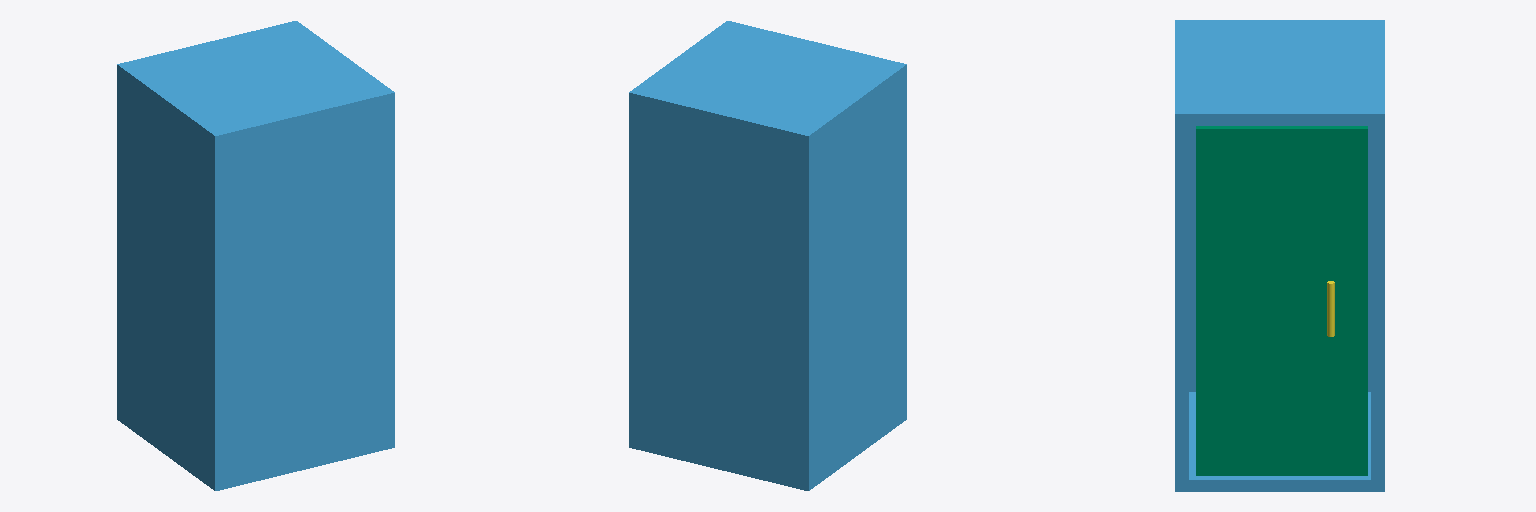
URDF robot description (my_cabinet):
<?xml version="1.0" ?>
<robot name="my_cabinet">
	<link name="world"/>
	<joint name="virtual_joint" type="fixed">
		<parent link="world"/>
		<child link="base_cabinet_link"/>
		<origin xyz="0.0 0.0 0.0" rpy="0.0 0.0 0.0"/>
	</joint>
	<link name="base_cabinet_link">
		<visual>
			<origin xyz="0.0 -0.0025 -0.2744889267539907" rpy="0.0 0.0 0.0"/>
			<geometry>
				<box size="0.3 0.2845808412956103 0.018"/>
			</geometry>
		</visual>
		<collision name="base_cabinet_link_collision_0">
			<origin xyz="0.0 -0.0025 -0.2744889267539907" rpy="0.0 0.0 0.0"/>
			<geometry>
				<box size="0.3 0.2845808412956103 0.018"/>
			</geometry>
		</collision>
		<visual>
			<origin xyz="0.0 0.13079042064780516 0.0" rpy="0.0 0.0 0.0"/>
			<geometry>
				<box size="0.3 0.018 0.5669778535079815"/>
			</geometry>
		</visual>
		<collision name="base_cabinet_link_collision_1">
			<origin xyz="0.0 0.13079042064780516 0.0" rpy="0.0 0.0 0.0"/>
			<geometry>
				<box size="0.3 0.018 0.5669778535079815"/>
			</geometry>
		</collision>
		<visual>
			<origin xyz="0.0 -0.13579042064780517 0.0" rpy="0.0 0.0 0.0"/>
			<geometry>
				<box size="0.3 0.018 0.5669778535079815"/>
			</geometry>
		</visual>
		<collision name="base_cabinet_link_collision_2">
			<origin xyz="0.0 -0.13579042064780517 0.0" rpy="0.0 0.0 0.0"/>
			<geometry>
				<box size="0.3 0.018 0.5669778535079815"/>
			</geometry>
		</collision>
		<visual>
			<origin xyz="0.0 -0.0025 0.2744889267539907" rpy="0.0 0.0 0.0"/>
			<geometry>
				<box size="0.3 0.2845808412956103 0.018"/>
			</geometry>
		</visual>
		<collision name="base_cabinet_link_collision_3">
			<origin xyz="0.0 -0.0025 0.2744889267539907" rpy="0.0 0.0 0.0"/>
			<geometry>
				<box size="0.3 0.2845808412956103 0.018"/>
			</geometry>
		</collision>
		<visual>
			<origin xyz="-0.141 -0.0025 0.0" rpy="0.0 0.0 0.0"/>
			<geometry>
				<box size="0.018 0.2845808412956103 0.5669778535079815"/>
			</geometry>
		</visual>
		<collision name="base_cabinet_link_collision_4">
			<origin xyz="-0.141 -0.0025 0.0" rpy="0.0 0.0 0.0"/>
			<geometry>
				<box size="0.018 0.2845808412956103 0.5669778535079815"/>
			</geometry>
		</collision>
		<inertial>
			<mass value="0.200000"/>
			<inertia ixx="0.006708" ixy="0.0" ixz="0.0" iyy="0.006858" iyz="0.0" izz="0.002850"/>
		</inertial>
	</link>
	<link name="door_link">
		<visual>
			<origin xyz="0.0 -0.11679042064780515 0.0"/>
			<geometry>
				<box size="0.018 0.2335808412956103 0.5209778535079814"/>
			</geometry>
		</visual>
		<collision name="door_link_collision">
			<origin xyz="0.0 -0.11679042064780515 0.0"/>
			<geometry>
				<box size="0.018 0.2335808412956103 0.5209778535079814"/>
			</geometry>
		</collision>
		<inertial>
			<mass value="0.200000"/>
			<inertia ixx="0.005433" ixy="0.0" ixz="0.0" iyy="0.004529" iyz="0.0" izz="0.000915"/>
		</inertial>
	</link>
	<joint name="door_joint" type="revolute">
		<origin xyz="0.141 -0.11679042064780515 0.0" rpy="0.000000 -0.000000 3.141593"/>
		<axis xyz="0 0 1"/>
		<parent link="base_cabinet_link"/>
		<child link="door_link"/>
		<limit effort="50" lower="-1.658062789394613" upper="0" velocity="10"/>
		<dynamics friction="3.5" damping="3.5"/>
	</joint>
	<link name="handle_link">
		<visual>
			<origin xyz="0.0 0.0 0.0" rpy="0.0 0.0 0.0"/>
			<geometry>
				<cylinder length="0.08" radius="0.005"/>
			</geometry>
		</visual>
		<collision name="handle_link_collision_0">
			<origin xyz="0.0 0.0 0.0" rpy="0.0 0.0 0.0"/>
			<geometry>
				<cylinder length="0.08" radius="0.005"/>
			</geometry>
		</collision>
		<visual>
			<origin xyz="-0.01 0.0 0.02" rpy="0.0 1.5707963267948966 0.0"/>
			<geometry>
				<cylinder length="0.02" radius="0.003"/>
			</geometry>
		</visual>
		<collision name="handle_link_collision_1">
			<origin xyz="-0.01 0.0 0.02" rpy="0.0 1.5707963267948966 0.0"/>
			<geometry>
				<cylinder length="0.01" radius="0.003"/>
			</geometry>
		</collision>
		<visual>
			<origin xyz="-0.01 0.0 -0.02" rpy="0.0 1.5707963267948966 0.0"/>
			<geometry>
				<cylinder length="0.02" radius="0.003"/>
			</geometry>
		</visual>
		<collision name="handle_link_collision_2">
			<origin xyz="-0.01 0.0 -0.02" rpy="0.0 1.5707963267948966 0.0"/>
			<geometry>
				<cylinder length="0.02" radius="0.003"/>
			</geometry>
		</collision>
		<inertial>
			<mass value="0.050000"/>
			<inertia ixx="0.000027" ixy="0.0" ixz="0.0" iyy="0.000029" iyz="0.0" izz="0.000003"/>
		</inertial>
	</link>
	<joint name="handle_joint" type="fixed">
		<origin xyz="-0.028999999999999998 -0.1835808412956103 0.0" rpy="0.000000 -0.000000 3.141593"/>
		<parent link="door_link"/>
		<child link="handle_link"/>
	</joint>
	<gazebo reference="base_cabinet_link">
		<sensor name="main_sensor" type="contact">
			<selfCollide>true</selfCollide>
			<alwaysOn>true</alwaysOn>
			<updateRate>5.0</updateRate>
			<material>Gazebo/Red</material>
			<contact>
				<collision>base_cabinet_link_collision_0_collision</collision>
				<collision>base_cabinet_link_collision_1_collision</collision>
				<collision>base_cabinet_link_collision_2_collision</collision>
				<collision>base_cabinet_link_collision_3_collision</collision>
				<collision>base_cabinet_link_collision_4_collision</collision>
			</contact>
			<plugin name="gazebo_ros_bumper_controller" filename="libgazebo_ros_bumper.so">
				<bumperTopicName>/contact</bumperTopicName>
				<frameName>world</frameName>
			</plugin>
		</sensor>
	</gazebo>
	<gazebo reference="door_link">
		<sensor name="main_sensor" type="contact">
			<selfCollide>true</selfCollide>
			<alwaysOn>true</alwaysOn>
			<updateRate>5.0</updateRate>
			<material>Gazebo/Red</material>
			<contact>
				<collision>door_link_collision_collision</collision>
			</contact>
			<plugin name="gazebo_ros_bumper_controller" filename="libgazebo_ros_bumper.so">
				<bumperTopicName>/contact_door</bumperTopicName>
				<frameName>contact_door</frameName>
			</plugin>
		</sensor>
	</gazebo>
	<gazebo reference="door_link">
		<mu>3.0</mu>
		<mu2>3.0</mu2>
		<kp>10000000</kp>
		<kd>100</kd>
	</gazebo>
</robot>

--- Render facts (derived) ---
The picture shows the robot from 3 angles, left to right: view 1: azimuth 30°, elevation 25°; view 2: azimuth 150°, elevation 25°; view 3: azimuth 270°, elevation 25°; orthographic projection.
Model my_cabinet with 4 links and 3 joints (1 revolute, 2 fixed), rooted at world, posed all joints at 0.
Visible links, largest first — view 1: base_cabinet_link; view 2: base_cabinet_link; view 3: door_link, base_cabinet_link.
Boxes of the visible links, x1,y1,x2,y2 form: base_cabinet_link: (117,21,394,490); base_cabinet_link: (629,21,906,490); door_link: (1196,126,1367,475); base_cabinet_link: (1175,20,1384,491).
Size in the robot's own frame: 0.325 by 0.2846 by 0.567 metres.
Geometry: primitives only (box / cylinder / sphere), no mesh files.
